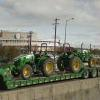Tractor: (10, 34, 62, 89)
